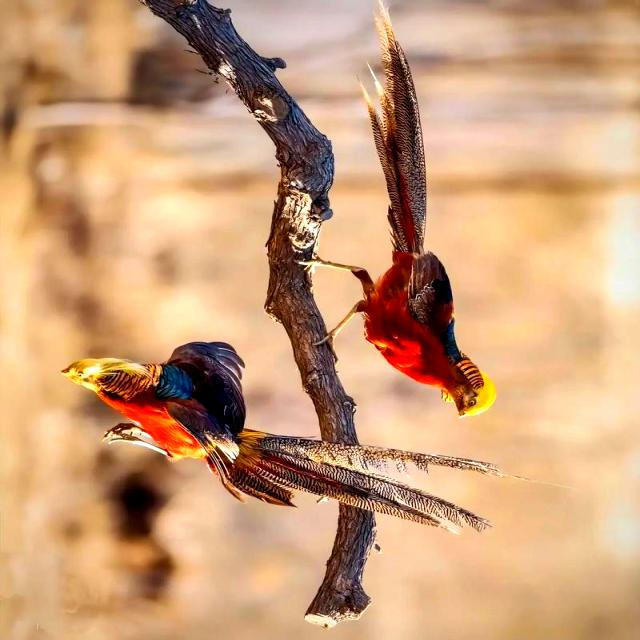Chrysolophus pictus feather: (207, 429, 559, 534), (357, 0, 427, 256)
